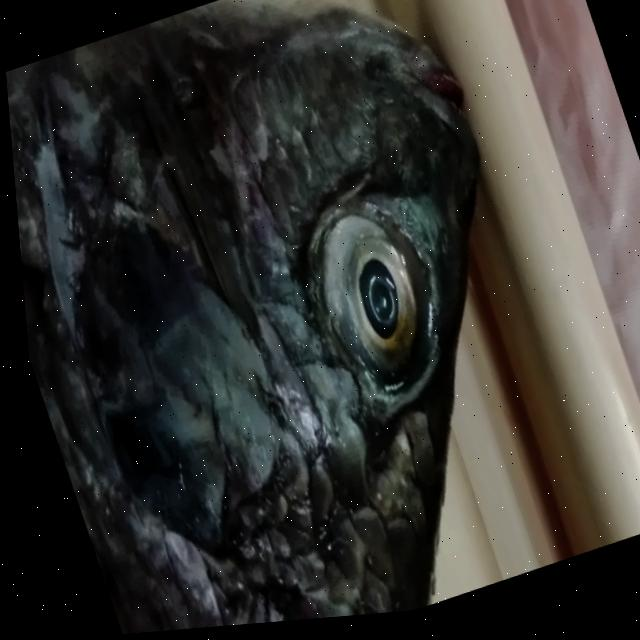Non-Fresh: (267, 153, 472, 421)
